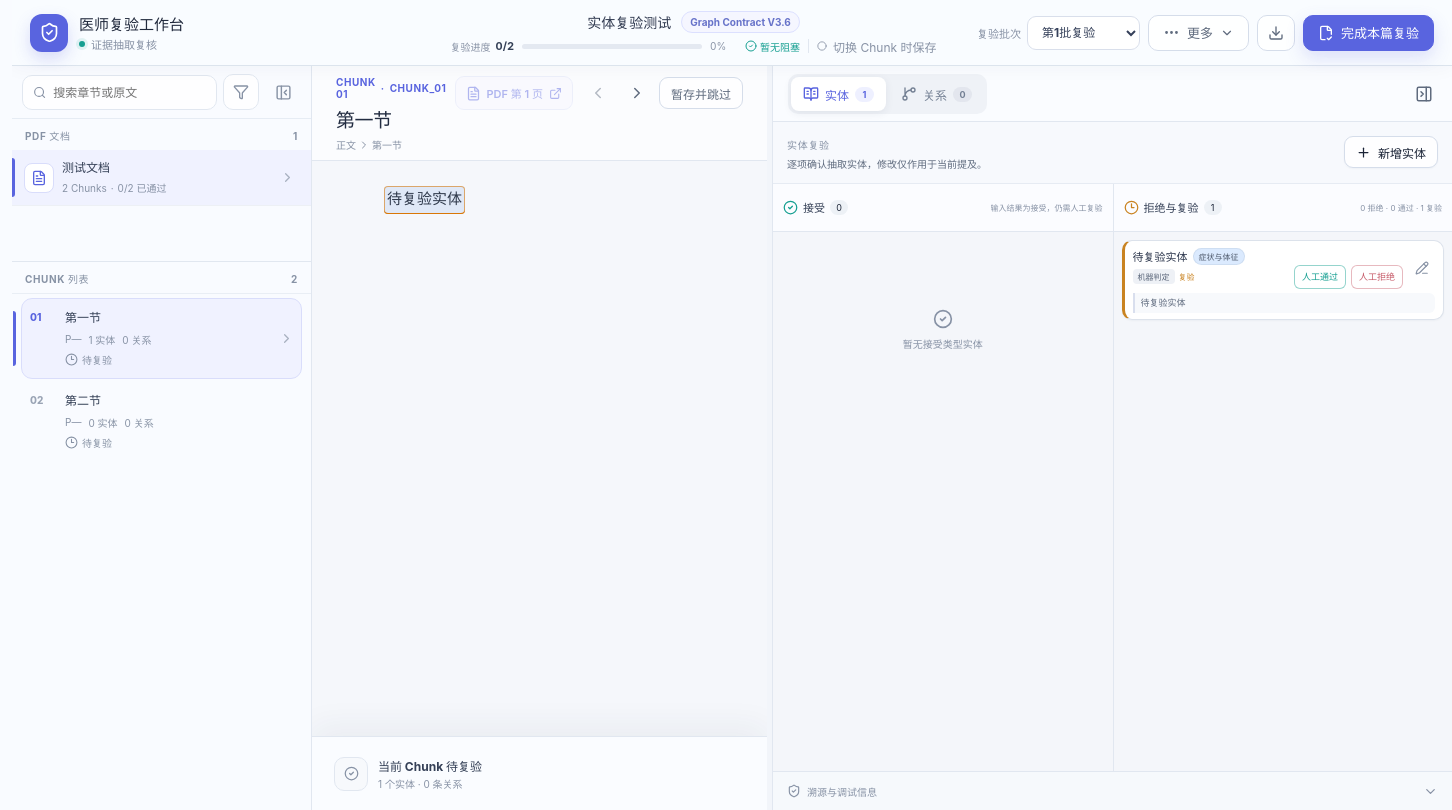
Scenario: KnowledgeReviewView entity persistence › persists an undo made while the first Chunk save is still running
Click the button with class "danger" at point(1377, 276), box [1351, 264, 1403, 288]
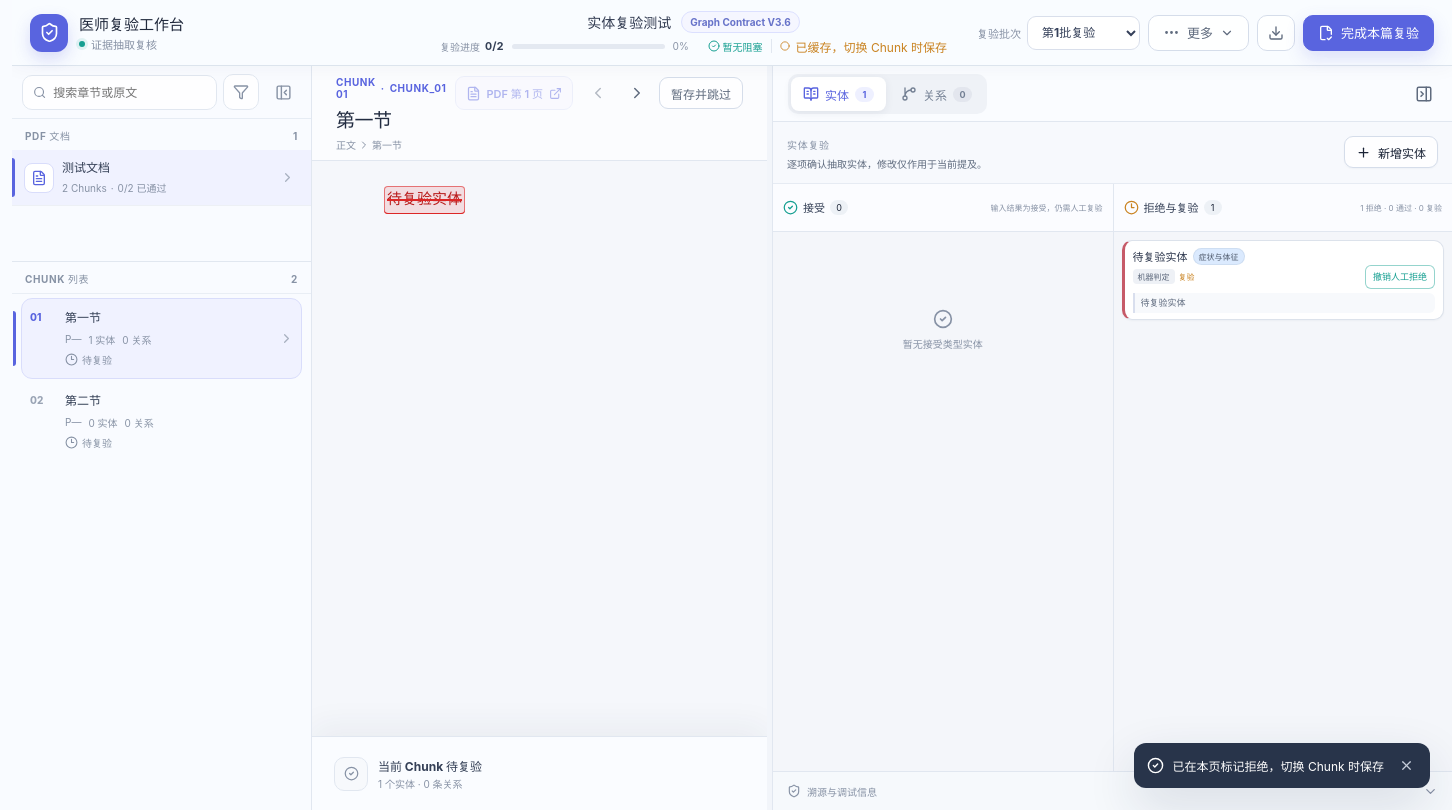
Click the button with class "chunk-row" showing "02 第二节 P— 0 实体 0 关系 待复验" at point(83, 400), box [21, 381, 302, 462]
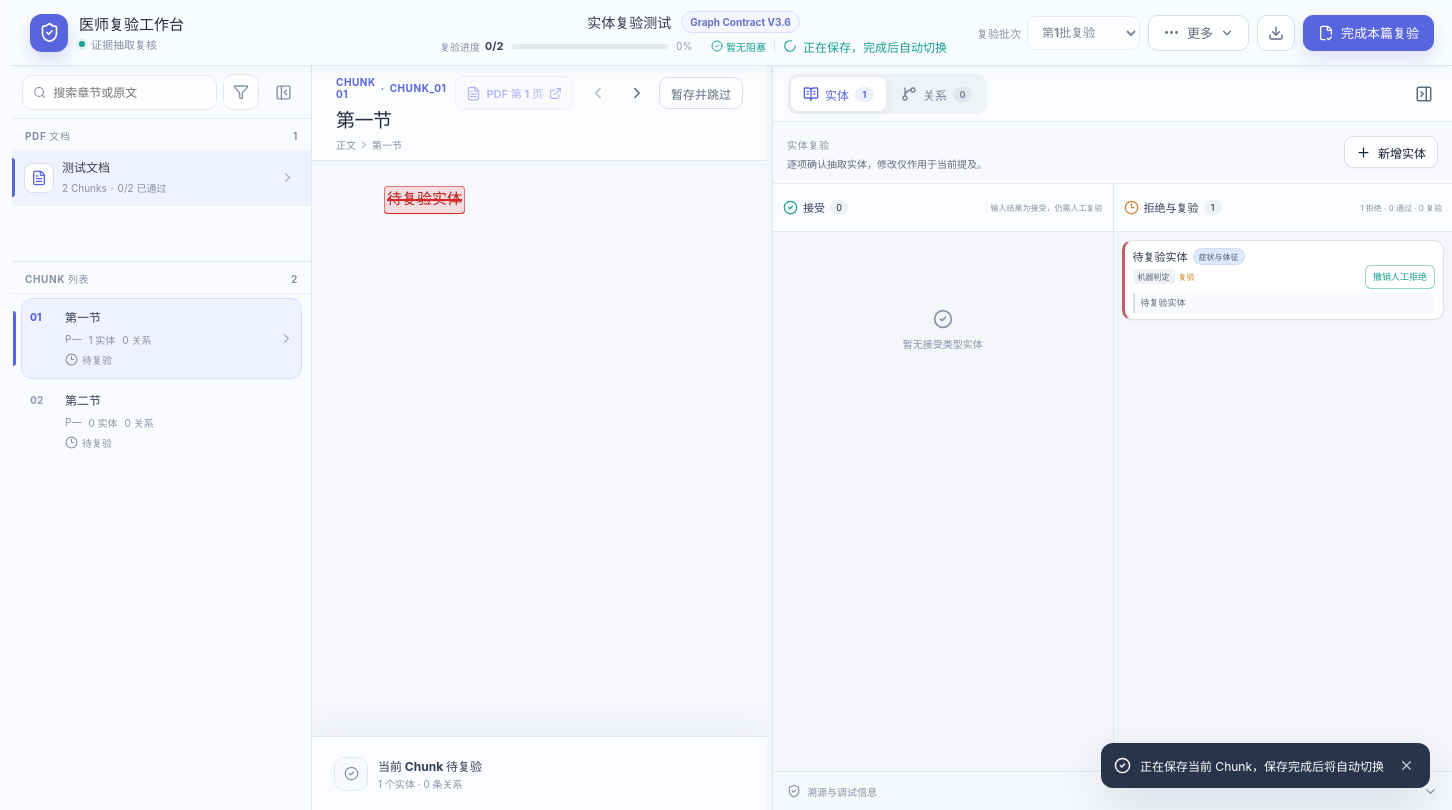
Now the text "正在保存当前 Chunk" is shown, box [1140, 759, 1384, 774]
Click the button with class "restore" at point(1400, 276), box [1365, 264, 1435, 288]
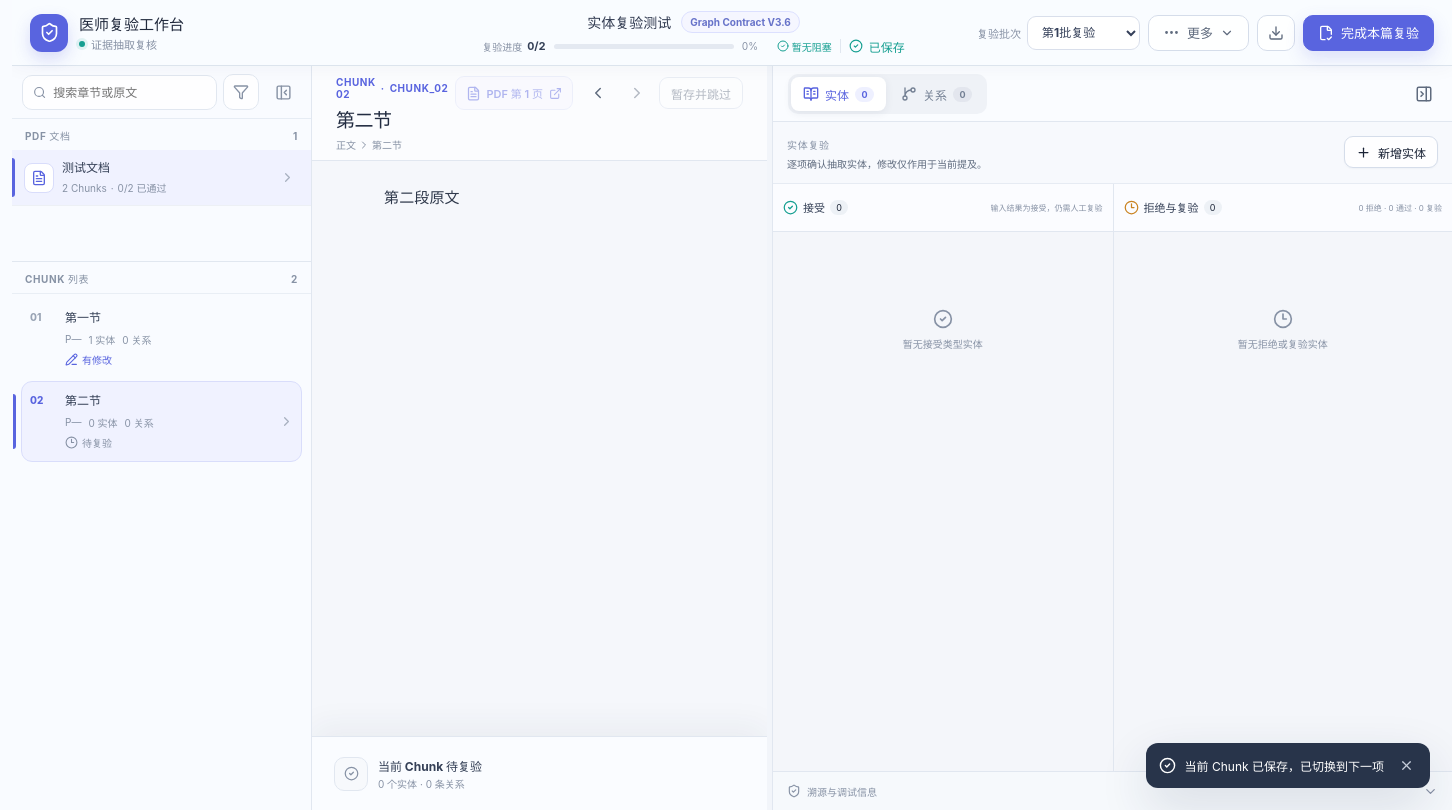
Now the text "第二段原文" is shown, box [384, 190, 460, 206]
